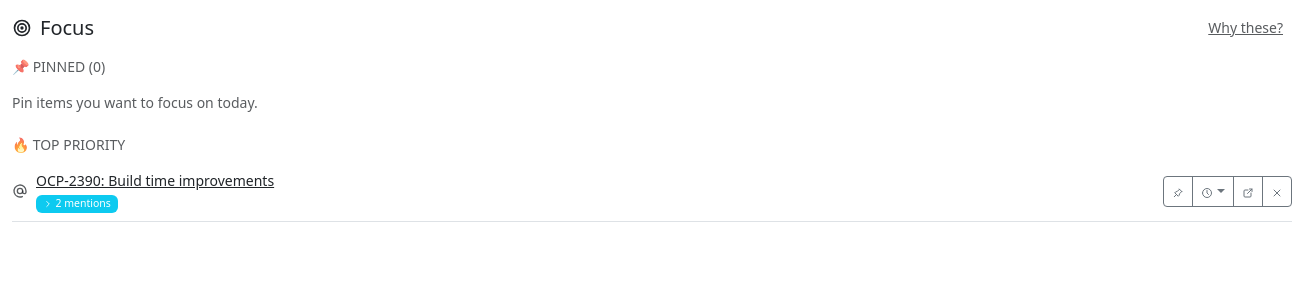
Test case: FocusView mention groups › collapses mentions on one PR into a row that expands to list them
Expected: the number of links "OCP-2390: Build time improvements" is 1, [36,171,274,190]
Expected: the text "first ping" is not shown
Click the button "2 mentions".
click(77, 204)  # box [36,195,118,213]
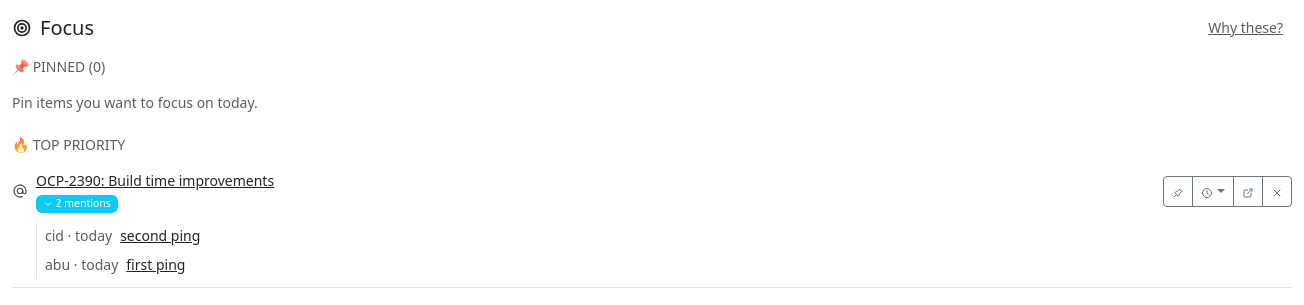
Now the link "first ping" is shown, box [126,254,185,275]
